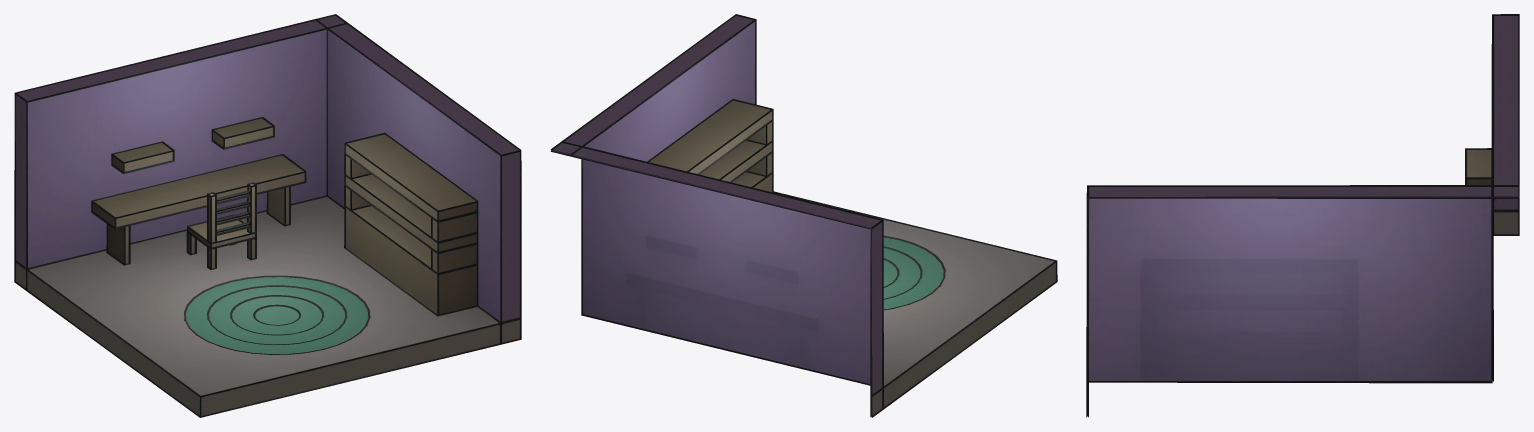
Rendered from model_room_prod.glb.
3 renders of one model, left to right at view 1: azimuth 30°, elevation 25°; view 2: azimuth 150°, elevation 25°; view 3: azimuth 270°, elevation 25°, orthographic. The views are drawn at different scales.
Parts seen in each view (by area): view 1: Room_Mesh_Ground.002; view 2: Room_Mesh_Ground.002; view 3: Room_Mesh_Ground.002.
Boxes of the visible parts, bbox=[...] form: Room_Mesh_Ground.002: bbox=[14, 14, 521, 417]; Room_Mesh_Ground.002: bbox=[551, 14, 1057, 417]; Room_Mesh_Ground.002: bbox=[1086, 14, 1519, 417].
Size of the model in its own units: 32.1 by 18.1 by 32.1.
1 material, 1 textured.
